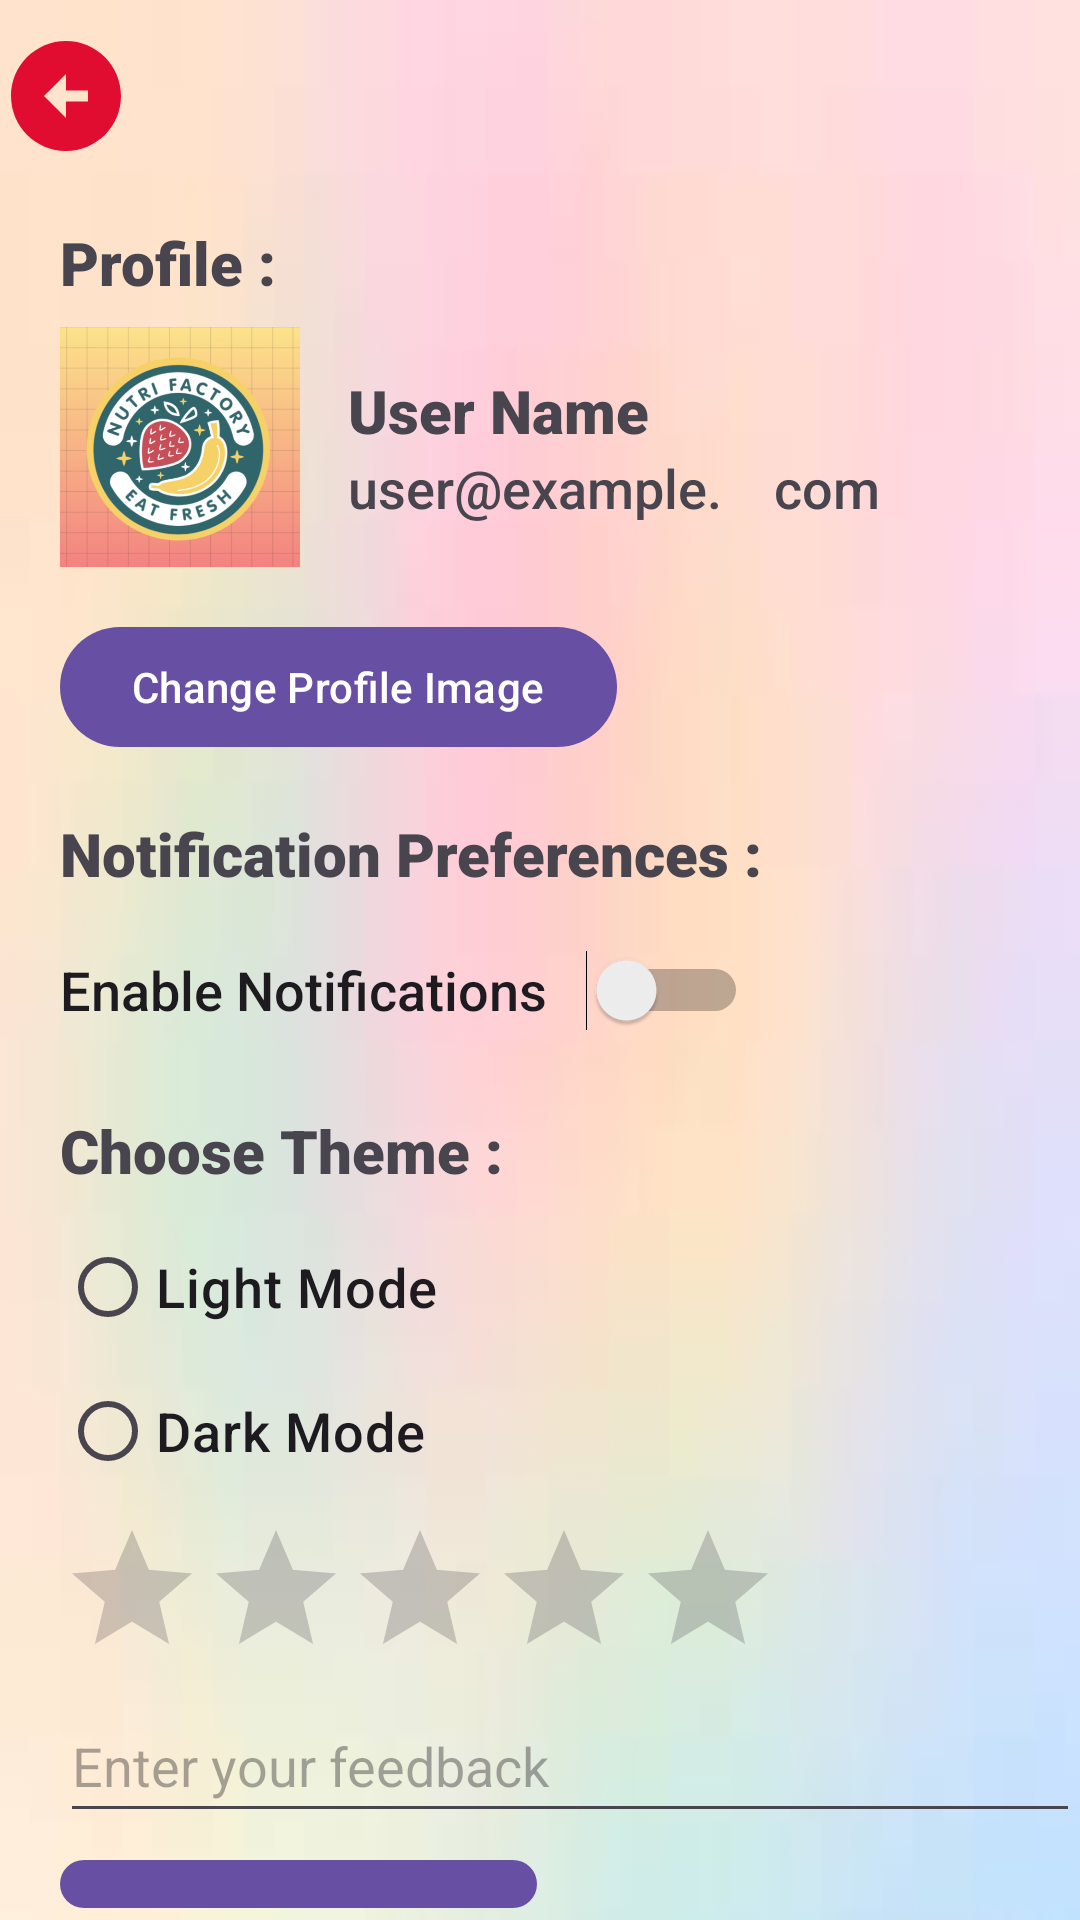

Icon click points for this 1080×1920 phone screenshot, format (x=x, y=y):
arrow circle left: (x=66, y=96)
